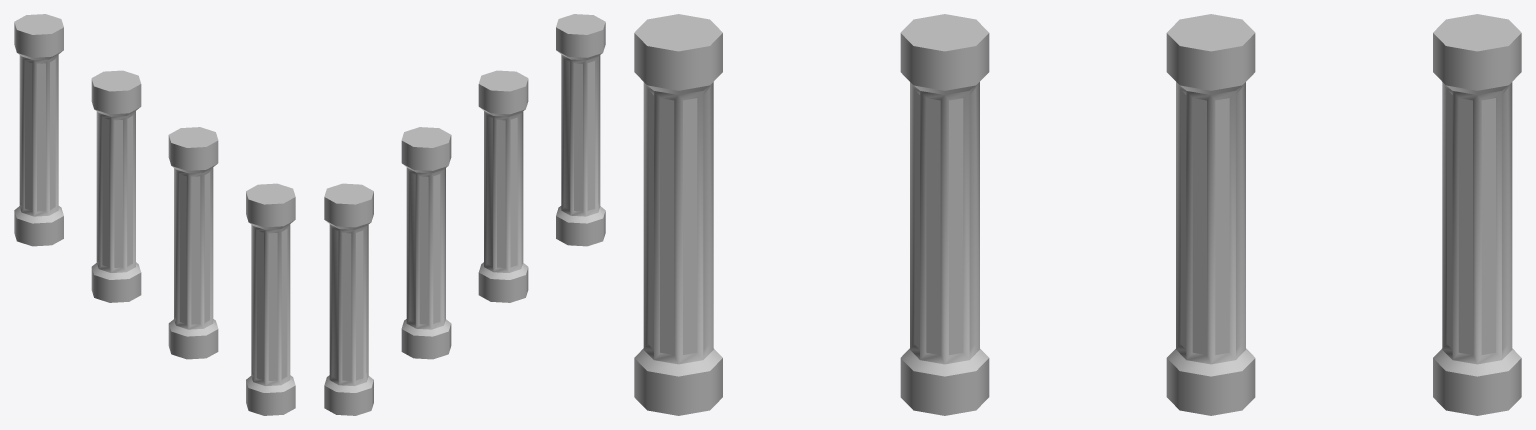
The model's file is Hea_Ba_Pillars.fbx.
3 renders of one model, left to right at view 1: azimuth 30°, elevation 25°; view 2: azimuth 150°, elevation 25°; view 3: azimuth 270°, elevation 25°, orthographic. The views are drawn at different scales.
Visible parts, largest first — view 1: Pillar; view 2: Pillar; view 3: Pillar.
Boxes of the visible parts, x1=… form: Pillar: x1=14, y1=14, x2=295, y2=415; Pillar: x1=324, y1=14, x2=605, y2=415; Pillar: x1=634, y1=14, x2=1521, y2=415.
Bounding box in the file's own units: 50.34 × 228 × 503.
